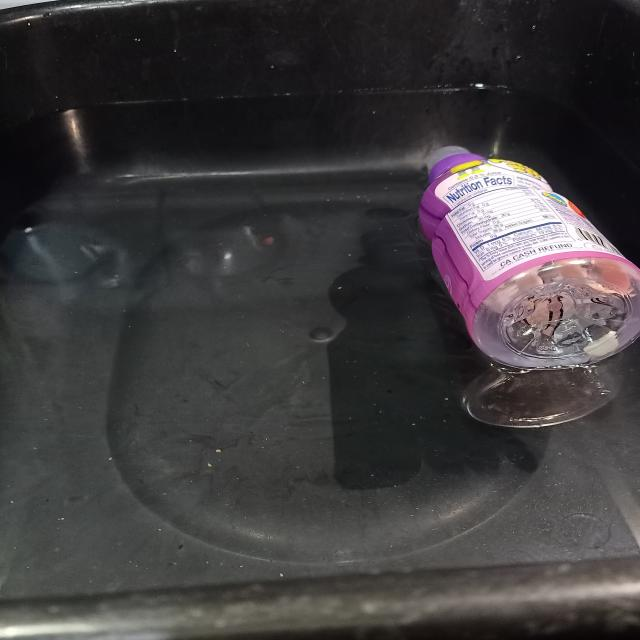Plastic Bottle: (419, 153, 640, 370)
